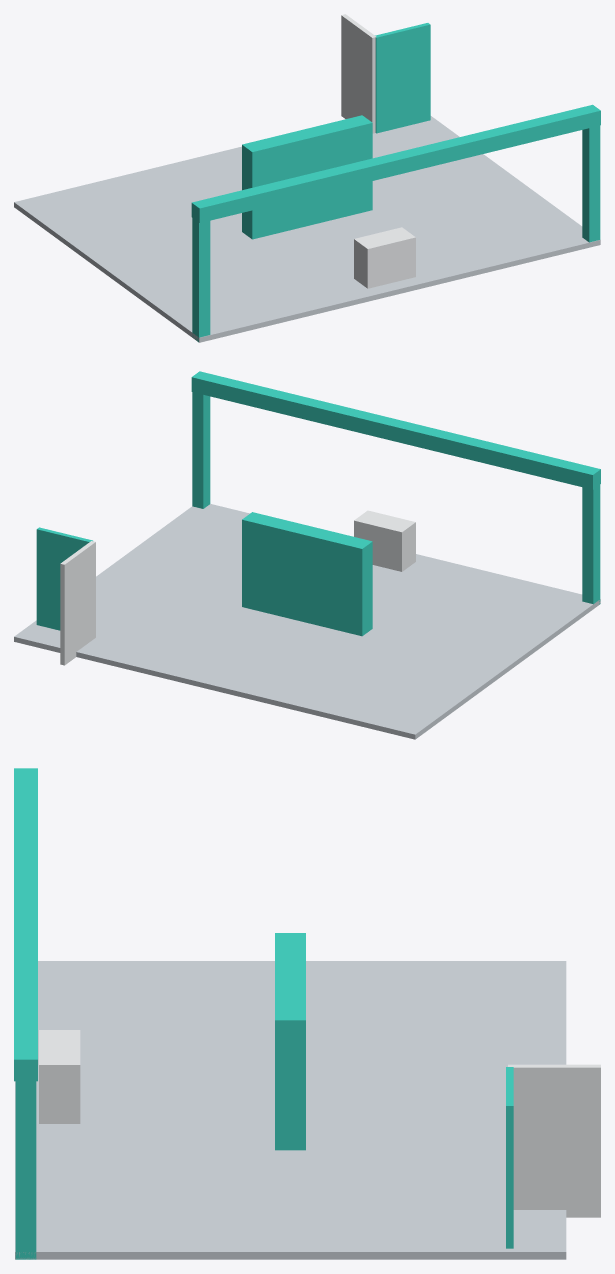
The picture shows the model from 3 angles, top to bottom: view 1: azimuth 30°, elevation 25°; view 2: azimuth 150°, elevation 25°; view 3: azimuth 270°, elevation 25°; orthographic projection. The views are drawn at different scales.
Visible parts, largest first — view 1: Exhibition Booth Concept; view 2: Exhibition Booth Concept; view 3: Exhibition Booth Concept.
Part boxes in pixels (x1=…): Exhibition Booth Concept: x1=14, y1=14, x2=600, y2=342; Exhibition Booth Concept: x1=14, y1=371, x2=600, y2=739; Exhibition Booth Concept: x1=14, y1=768, x2=600, y2=1259.
Size of the model in its own units: 10 by 3.2 by 8.52.
